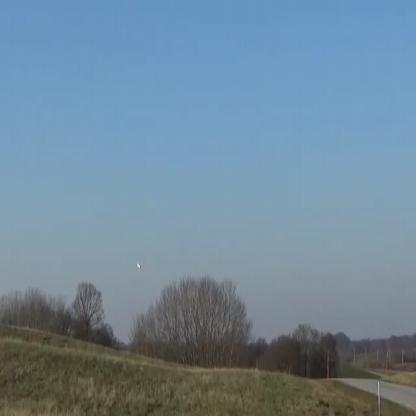CIV_Plane: (132, 258, 144, 272)
